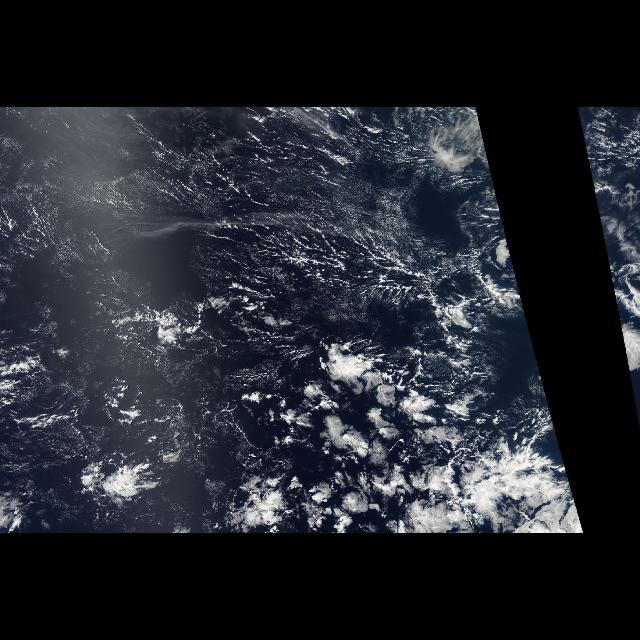Flower: (228, 346, 458, 520)
Gravel: (18, 118, 510, 370)
Sugar: (1, 136, 433, 272)
